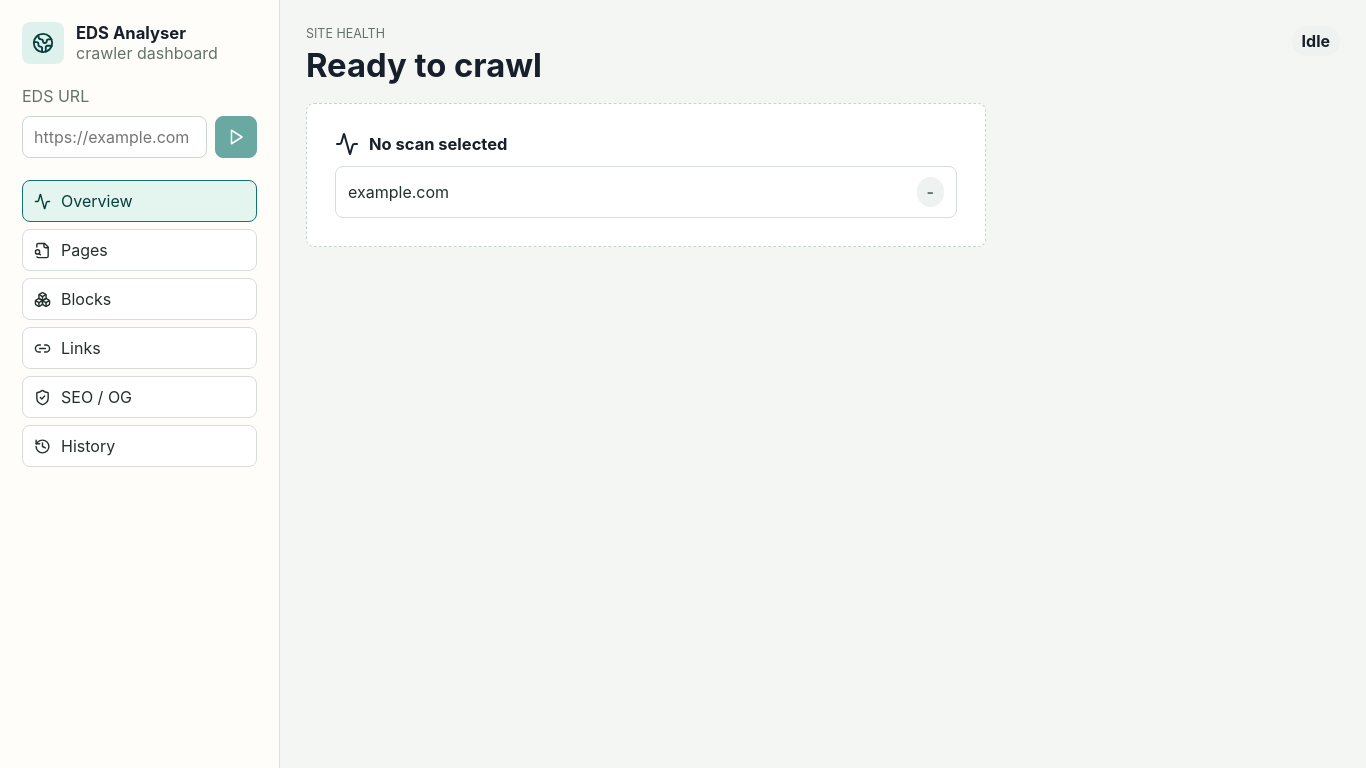
Test case: App › renders old scan data with null nested arrays without blanking tabs
The image size is (1366, 768).
Click the text "example.com". click: coordinates (399, 192)
box: 348,182 -> 449,202
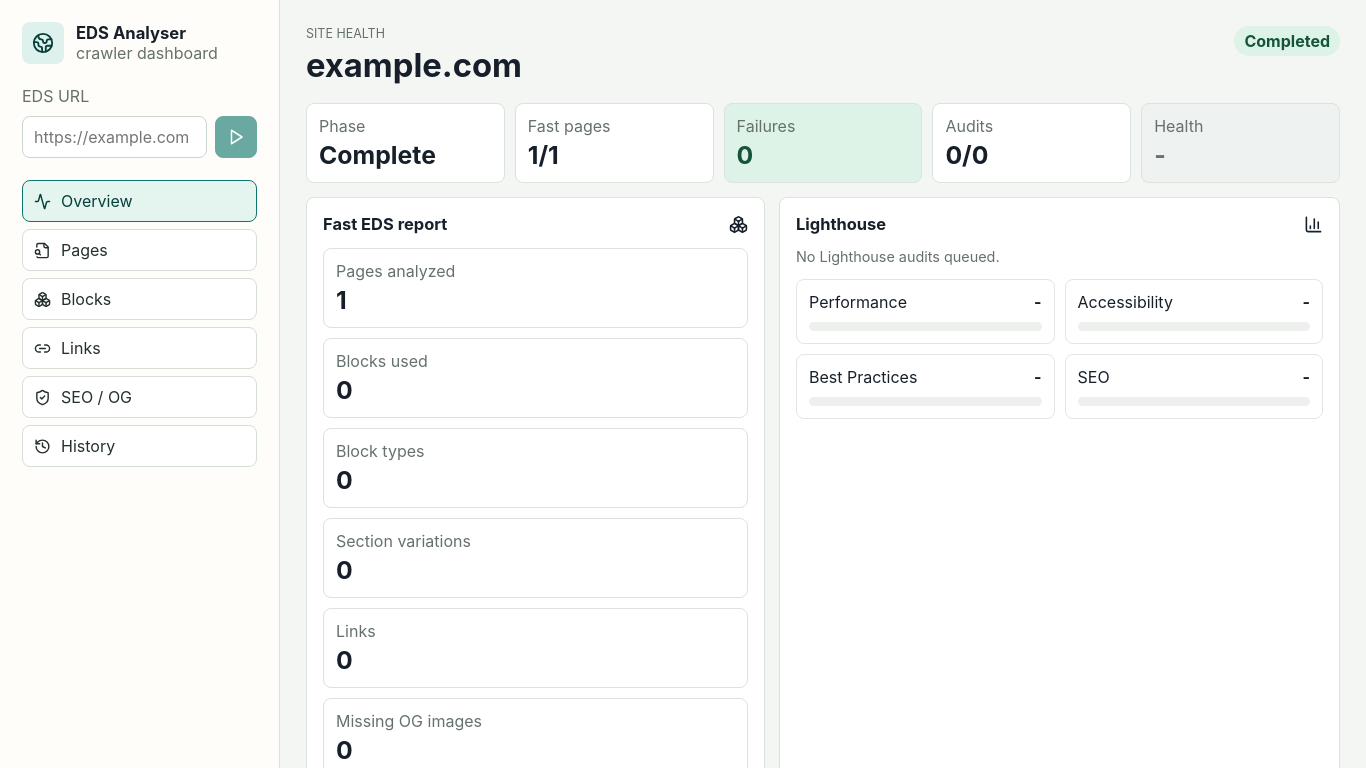
Click the button "Pages". click: coordinates (140, 250)
box: 22,229 -> 257,271
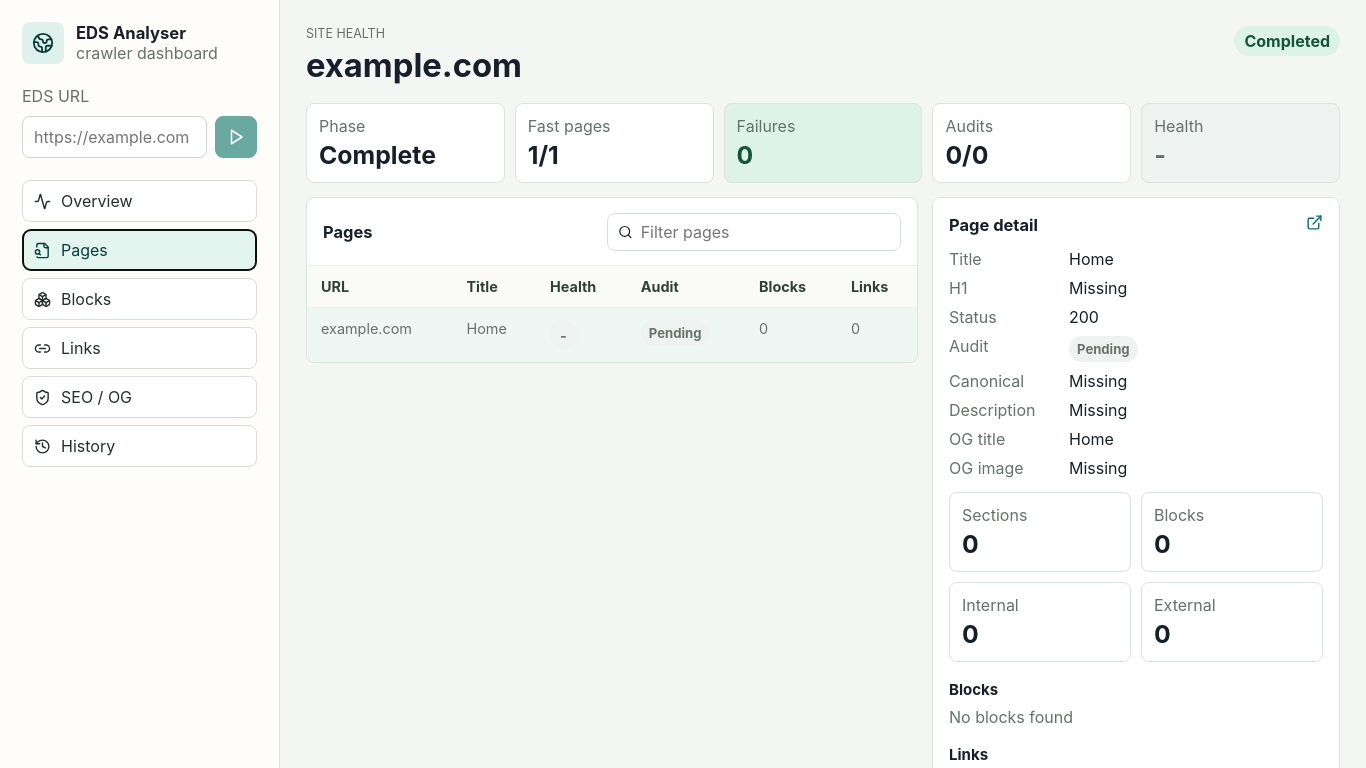
Click the button "Blocks". click: coordinates (140, 299)
box: 22,278 -> 257,320
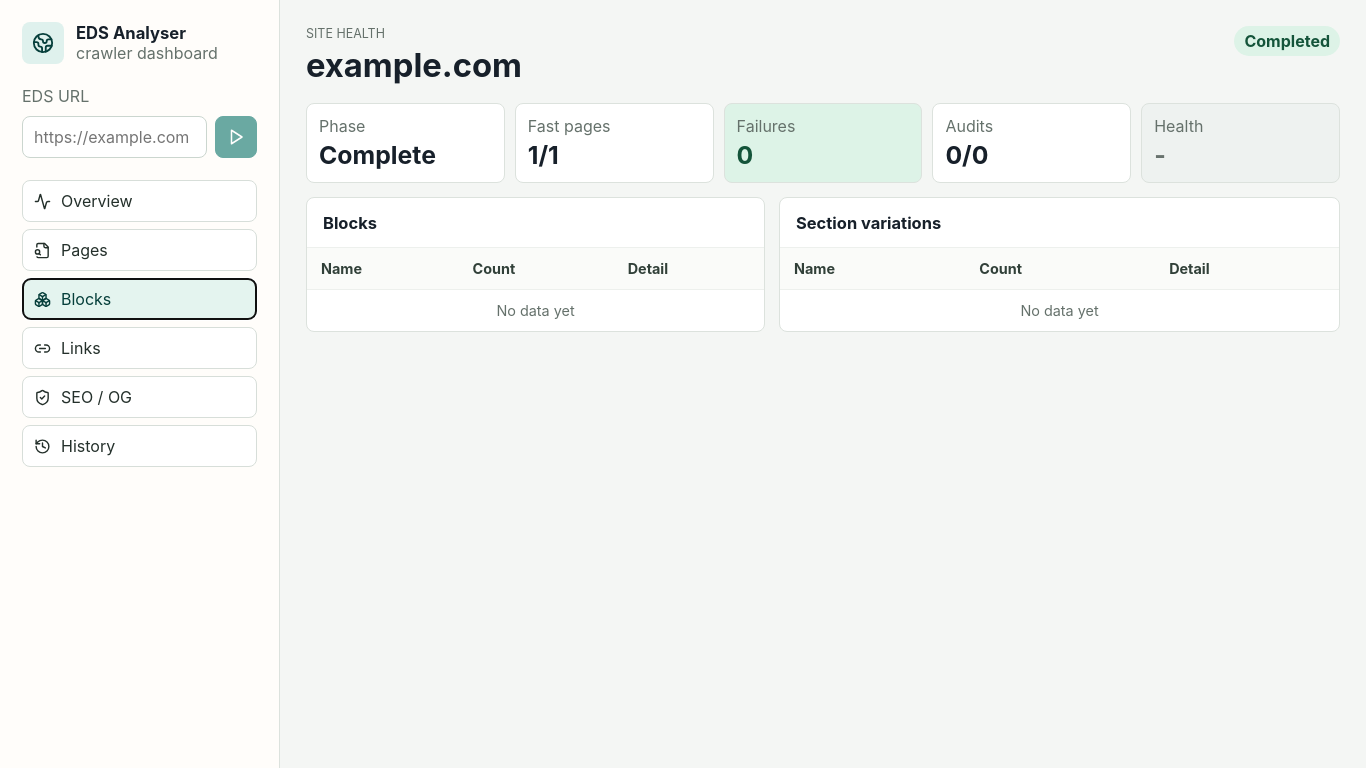
Expected: the 1st text "No data yet" is shown, 307,290 -> 764,331
Click the button "Links". click: coordinates (140, 348)
box: 22,327 -> 257,369
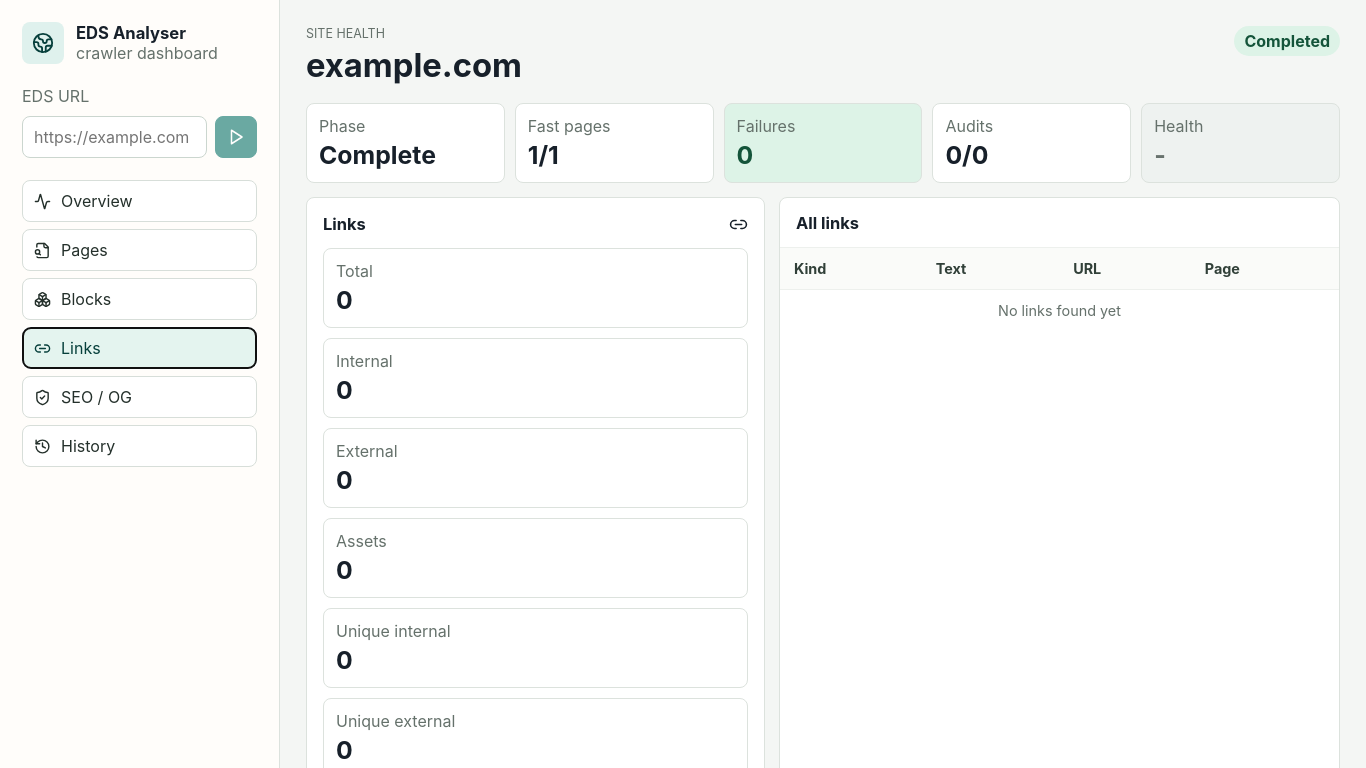
Expected: the text "No links found yet" is shown, 780,290 -> 1339,331
Click the button "SEO / OG". click: coordinates (140, 397)
box: 22,376 -> 257,418
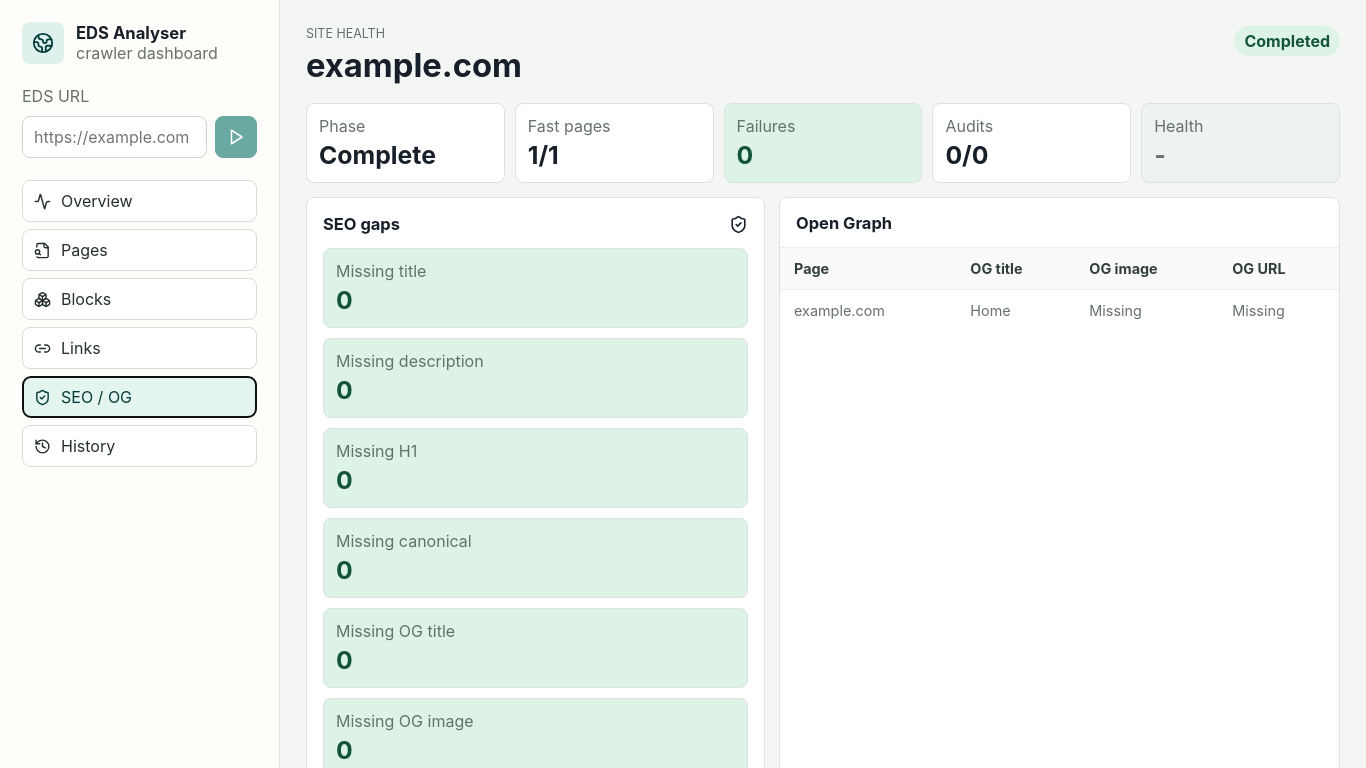
Expected: the text "Home" is shown, 956,290 -> 1075,331
